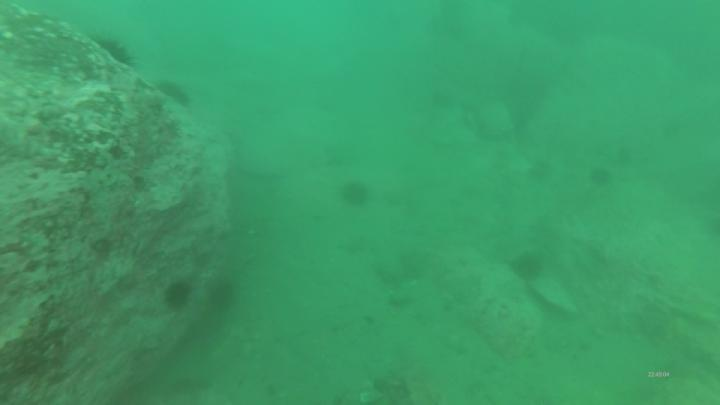echinus: (87, 34, 137, 72), (158, 278, 197, 315), (155, 79, 192, 111), (509, 251, 545, 283), (339, 177, 372, 210), (588, 164, 613, 190)
